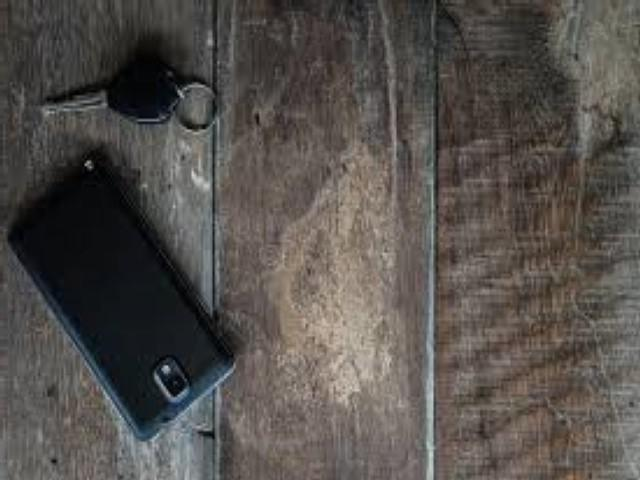key: (42, 58, 184, 184)
